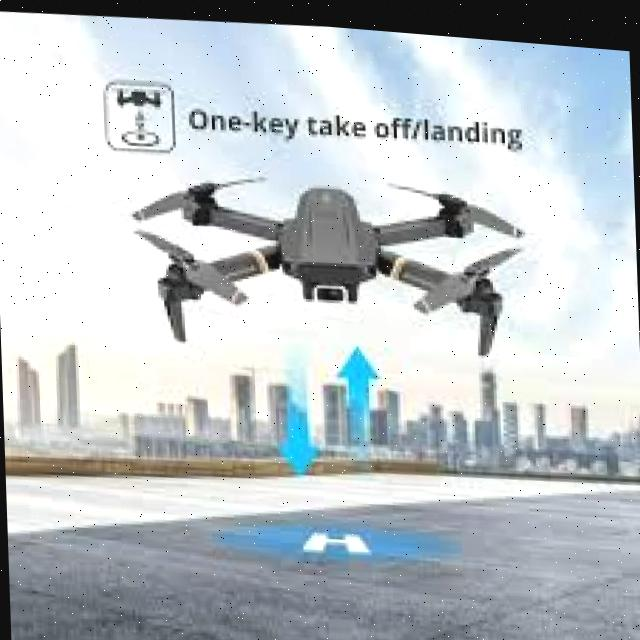drone: (120, 129, 522, 382)
